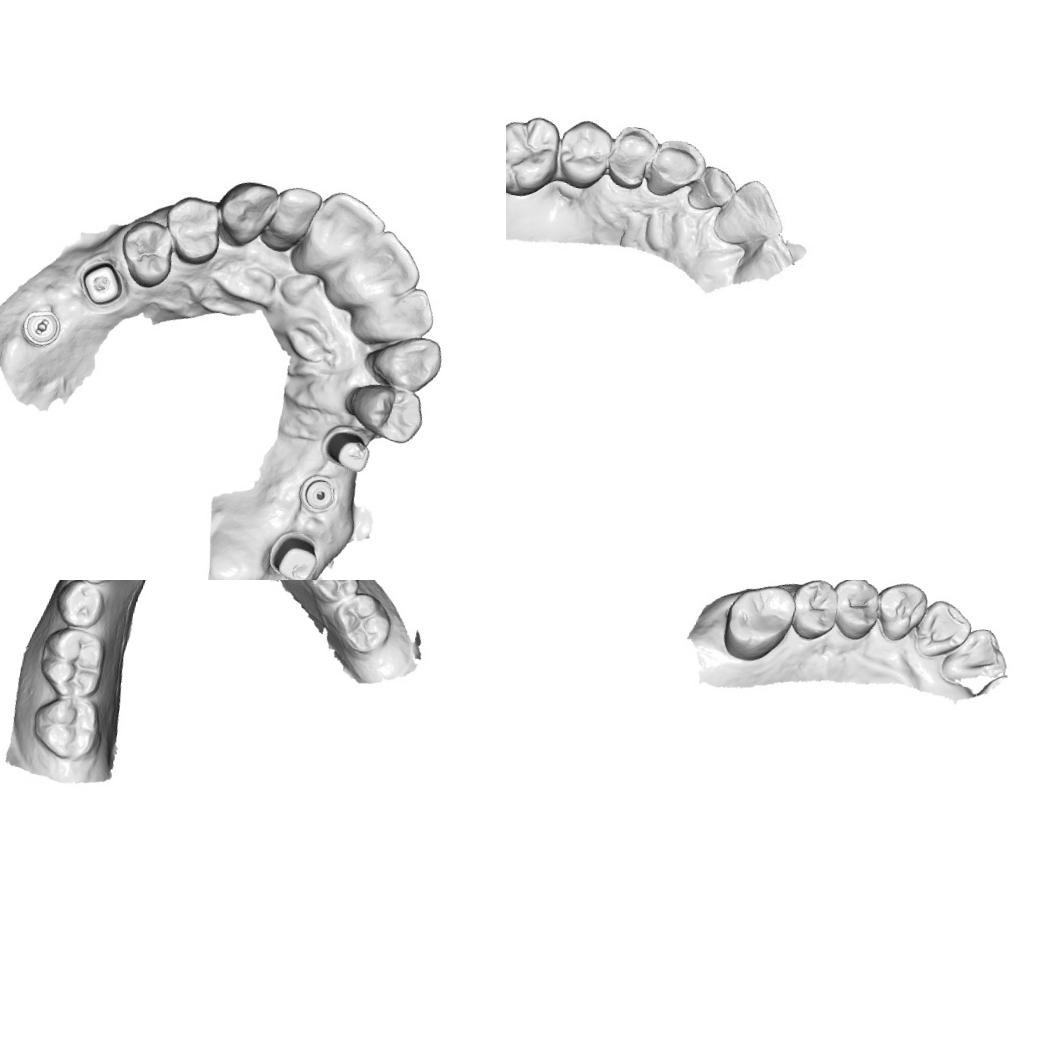abutment: (261, 523, 326, 580), (75, 256, 130, 311), (319, 423, 375, 476)
canine: (210, 174, 280, 253), (366, 327, 446, 395), (642, 130, 708, 202), (871, 580, 930, 645)
implant: (296, 470, 342, 516)
implant_minus: (17, 302, 64, 350)
incisor: (303, 184, 392, 272), (343, 222, 428, 304), (714, 175, 788, 249), (938, 622, 1013, 690), (365, 279, 438, 347), (910, 596, 974, 666), (264, 179, 326, 250), (681, 158, 740, 219)
molar: (717, 580, 799, 669), (506, 104, 571, 209), (33, 622, 110, 702), (27, 690, 104, 764), (325, 586, 396, 659), (293, 580, 366, 609)
premolar: (550, 113, 619, 197), (156, 190, 228, 270), (346, 378, 428, 447), (112, 213, 180, 294), (600, 116, 664, 194), (825, 580, 883, 644), (786, 580, 843, 644), (50, 580, 108, 631)
